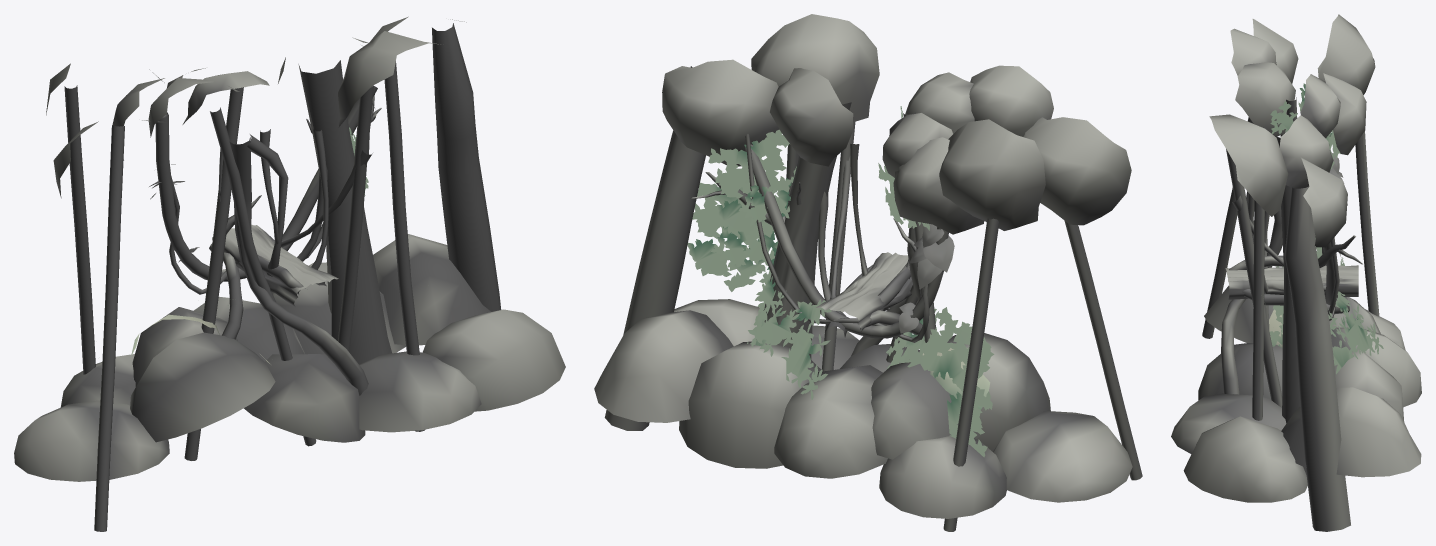
Rendered from Jungle_Canopy_Straight_B.glb.
The picture shows the model from 3 angles, left to right: view 1: azimuth 30°, elevation 25°; view 2: azimuth 150°, elevation 25°; view 3: azimuth 270°, elevation 25°; orthographic projection. The views are drawn at different scales.
Visible parts, largest first — view 1: Jungle_Canopy_Straight_B; view 2: Jungle_Canopy_Straight_B; view 3: Jungle_Canopy_Straight_B.
Boxes of the visible parts, x1,y1,x2,y2 form: Jungle_Canopy_Straight_B: [14, 16, 565, 531]; Jungle_Canopy_Straight_B: [594, 14, 1142, 531]; Jungle_Canopy_Straight_B: [1171, 14, 1421, 531].
Bounding box in the file's own units: 38.47 × 29.99 × 19.06.
